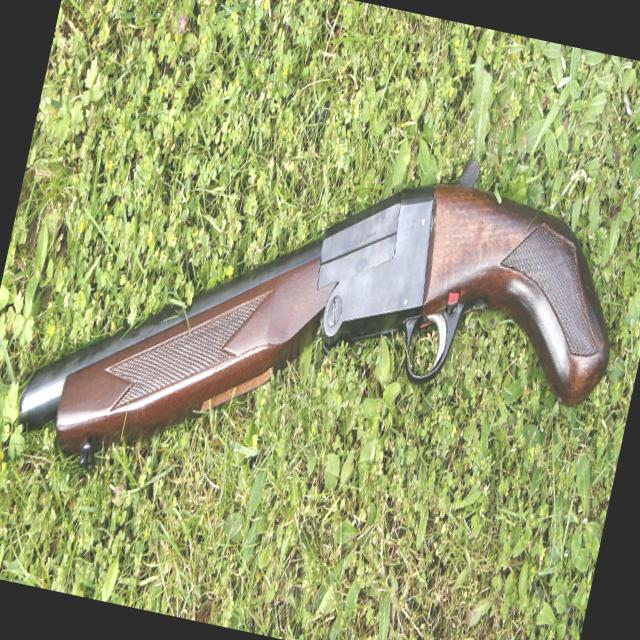long weapon: (0, 202, 640, 484)
